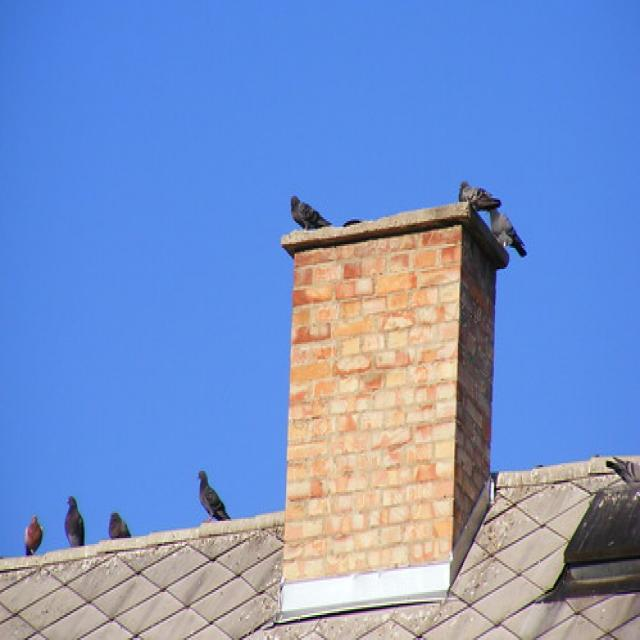bird: (490, 209, 528, 258), (197, 470, 232, 522), (290, 194, 332, 232), (458, 181, 502, 213), (64, 495, 86, 548), (24, 515, 44, 557), (108, 511, 132, 539)
